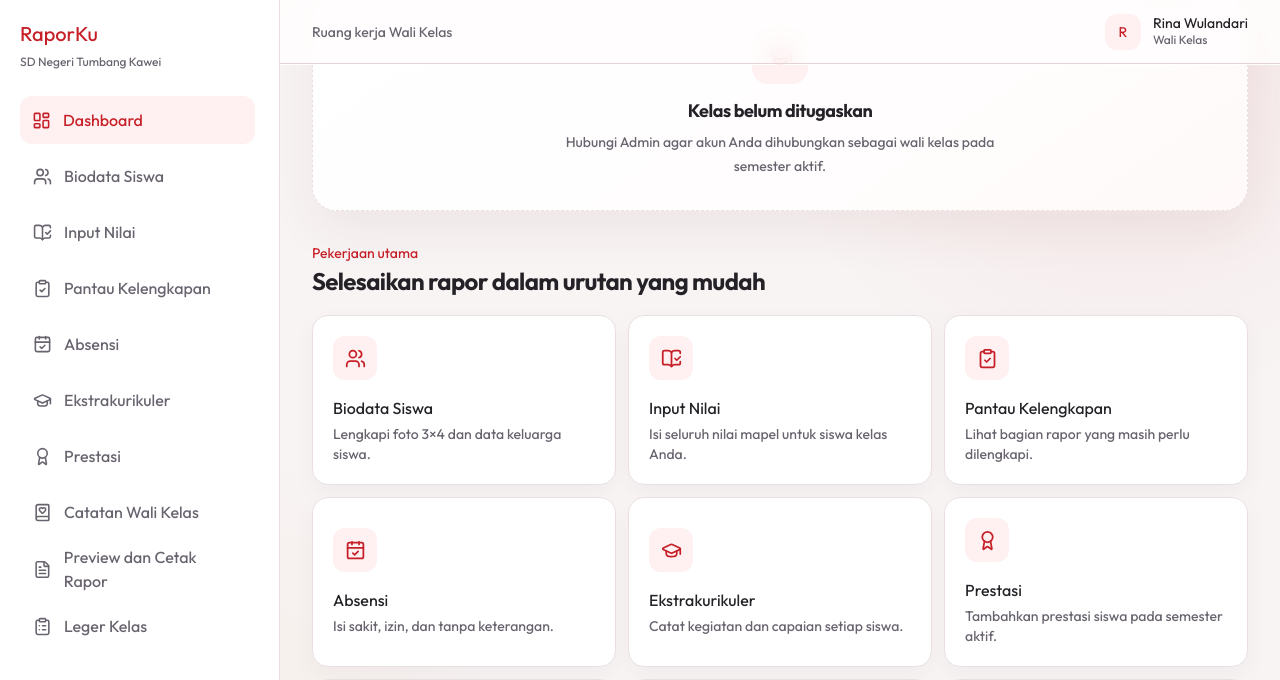
Scenario: App › membuka Input Nilai dari Dashboard Wali Kelas
This screenshot has width=1280, height=680.
(page scrolled)
Click the button "Input Nilai Isi seluruh nilai mapel untuk siswa kelas Anda." at (671, 358), box top-left (628, 315), bottom-right (932, 485)
(page scrolled)
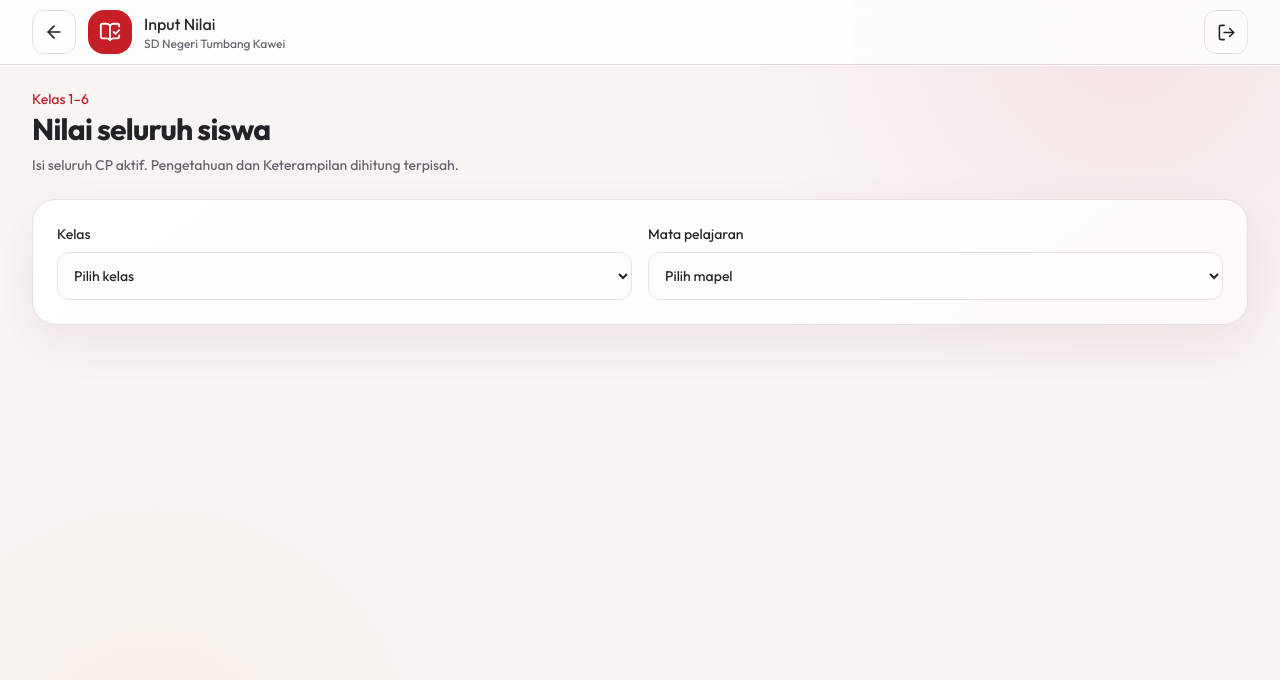
Expected: the heading "Nilai seluruh siswa" is shown, top-left (32, 110), bottom-right (270, 148)
